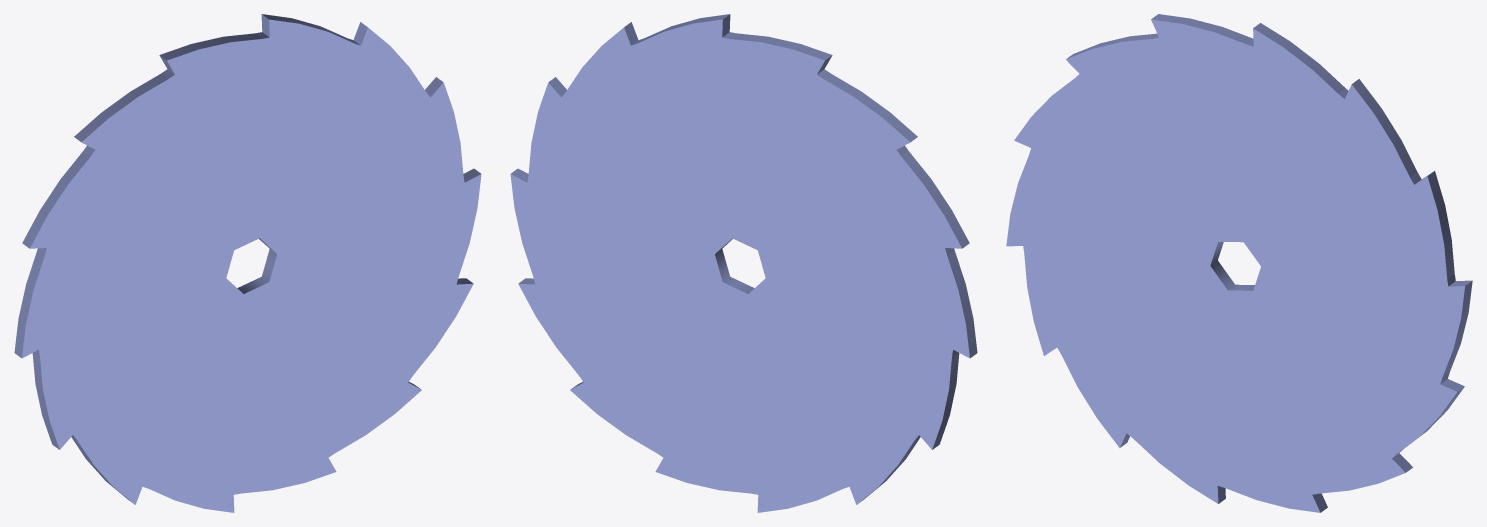
The model's file is Copie de Pi_X2_00e8_X0_ce2^Copie de ASS BARI_Horloge Comtoise Verge - Sonnerie.obj.
3 views of the same model, side by side, from view 1: azimuth 30°, elevation 25°; view 2: azimuth 150°, elevation 25°; view 3: azimuth 330°, elevation 25° (orthographic).
Visible parts, largest first — view 1: Face_45, Face_4, Face_7, Face_43, Face_10, Face_40, Face_44; view 2: Face_1, Face_4, Face_7, Face_43, Face_10, Face_40, Face_44; view 3: Face_45, Face_16, Face_13, Face_19, Face_10, Face_22, Face_44.
Part boxes in pixels (box(x1,y1,x2,y2)): Face_45: box(22, 19, 481, 512); Face_4: box(22, 151, 90, 248); Face_7: box(74, 74, 167, 142); Face_43: box(14, 250, 44, 358); Face_10: box(159, 33, 262, 60); Face_40: box(32, 352, 59, 449); Face_44: box(237, 238, 276, 293); Face_1: box(510, 19, 969, 512); Face_4: box(901, 151, 969, 248); Face_7: box(824, 74, 917, 142); Face_43: box(947, 250, 977, 358); Face_10: box(729, 33, 832, 60); Face_40: box(932, 352, 959, 449); Face_44: box(715, 238, 754, 293); Face_45: box(1006, 19, 1464, 512); Face_16: box(1352, 79, 1417, 177); Face_13: box(1253, 23, 1345, 93); Face_19: box(1427, 171, 1454, 278); Face_10: box(1151, 14, 1253, 44); Face_22: box(1442, 281, 1472, 377); Face_44: box(1210, 242, 1254, 290).
Bounding box in the file's own units: 0.0529 × 0.0534 × 0.0015.
